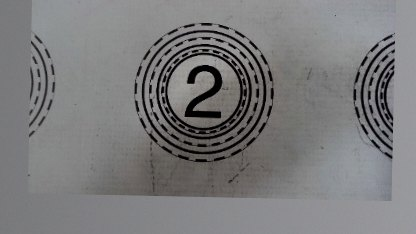2r: (128, 17, 276, 167)
